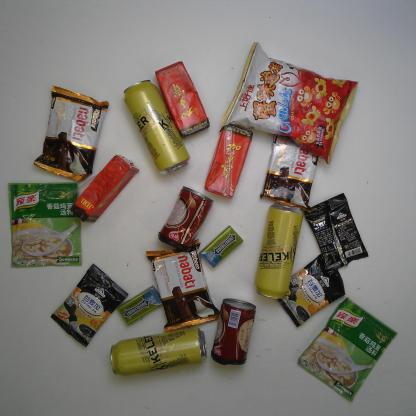Alcohol: (122, 78, 192, 173), (107, 323, 208, 379), (256, 201, 304, 301)
Canned Food: (158, 186, 214, 250), (209, 298, 256, 366)
Dessert: (32, 86, 110, 182), (144, 240, 220, 332), (262, 129, 321, 211)
Drink: (72, 156, 138, 225), (155, 61, 211, 139), (204, 121, 254, 198)
Gum: (117, 286, 163, 328), (201, 226, 244, 268)
Instant Drink: (50, 262, 128, 349), (302, 192, 369, 271), (278, 255, 347, 326)
Puffed Food: (223, 40, 357, 163)
Seasoner: (296, 299, 398, 402), (8, 178, 83, 271)
